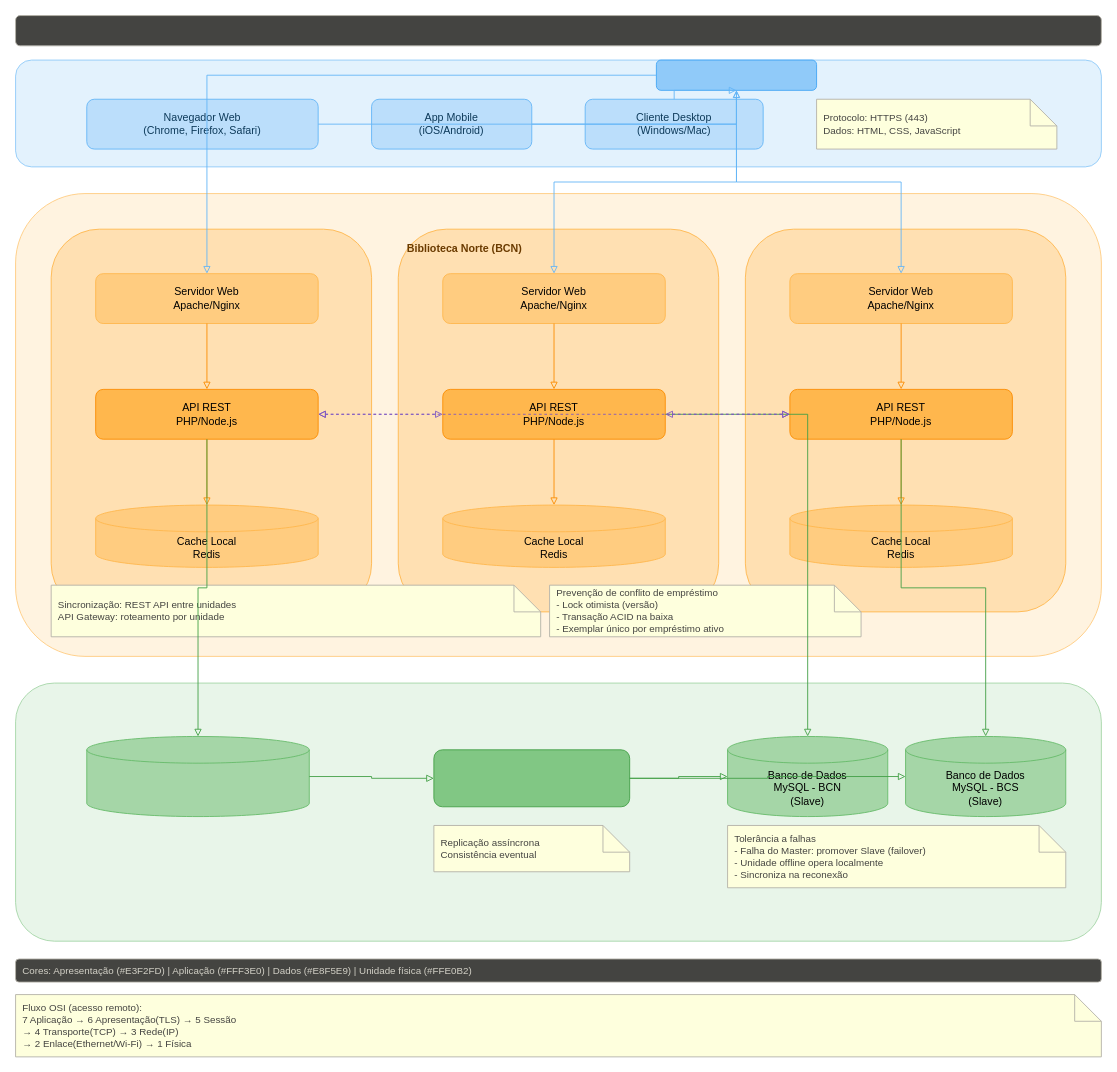
Some shapes in this 1117 by 1072 pixel diagram are drawn without their labels. Each missing label, with the box of its shape:
Arquitetura em 3 Camadas - Sistema de Biblioteca Universitária: (15, 15, 1101, 46)
Banco de Dados MySQL - BCC (Master): (86, 736, 309, 817)
Biblioteca Central (BCC): (50, 228, 372, 612)
Biblioteca Sul (BCS): (744, 228, 1066, 612)
CAMADA DE APLICAÇÃO: (15, 193, 1101, 656)
CAMADA DE APRESENTAÇÃO: (15, 59, 1101, 167)
CAMADA DE DADOS: (15, 682, 1101, 941)
Load Balancer / API Gateway: (655, 59, 817, 90)
Replicação Binlog/MySQL: (433, 749, 630, 807)
